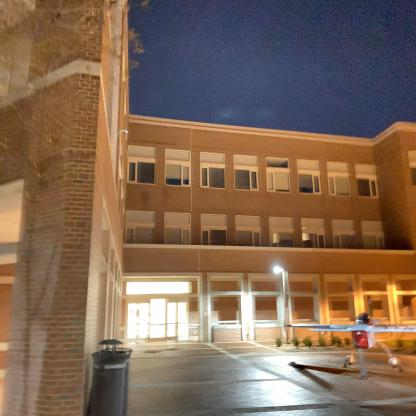eb2: (105, 95, 415, 345)
